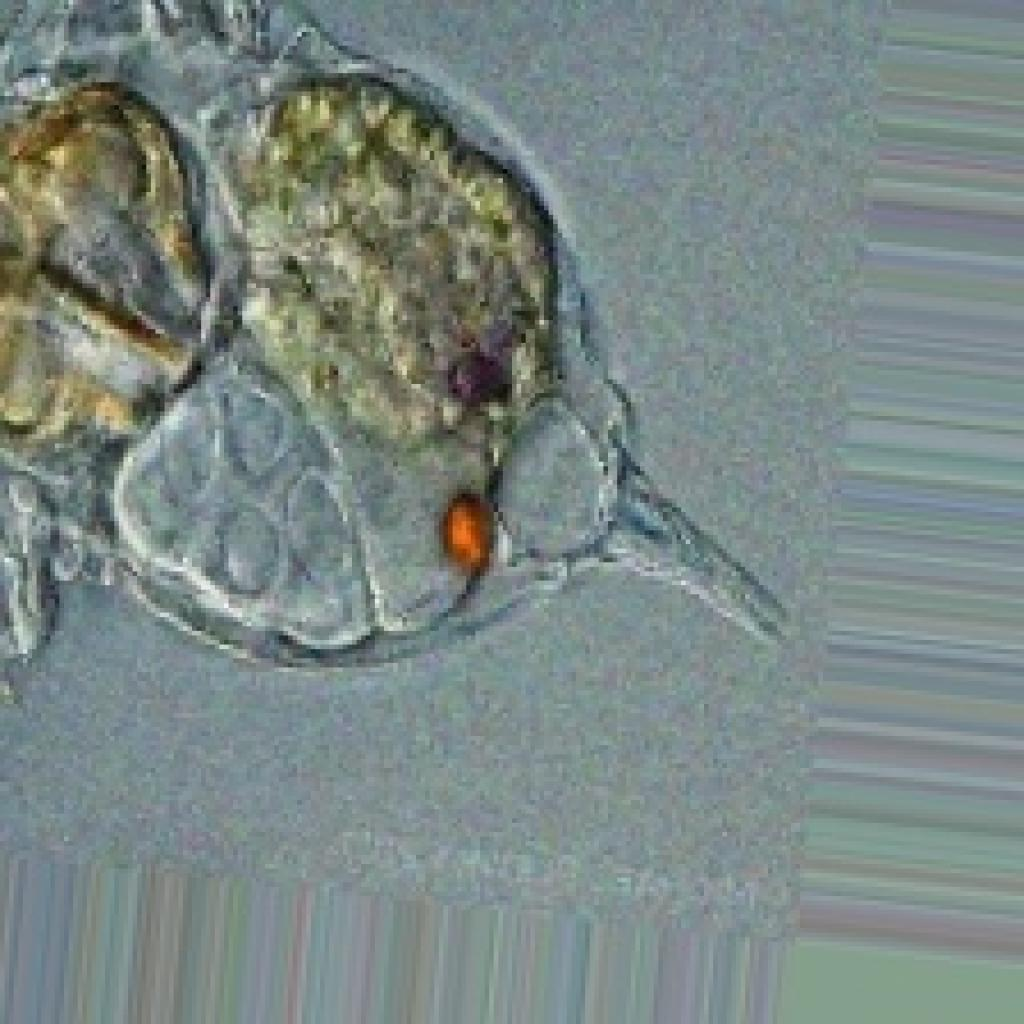Rotifer: (0, 0, 818, 864)
